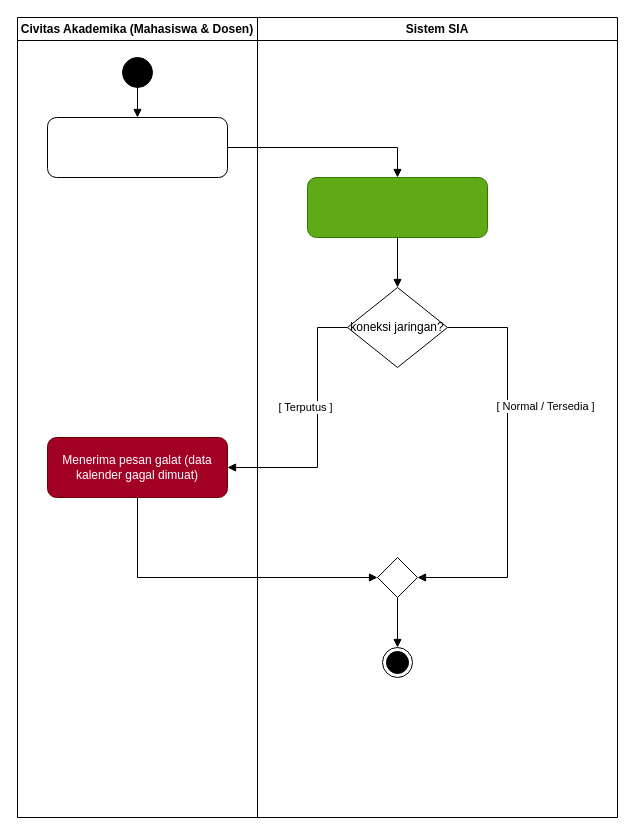
The diagram is 635 pixels wide and 835 high, and some of its shapes have lost their labels. Each missing label, with the centre of its shape:
Membuka menu Kalender Akademik: [137,147]
Menampilkan halaman kalender akademik beserta daftar agenda: [397,207]
